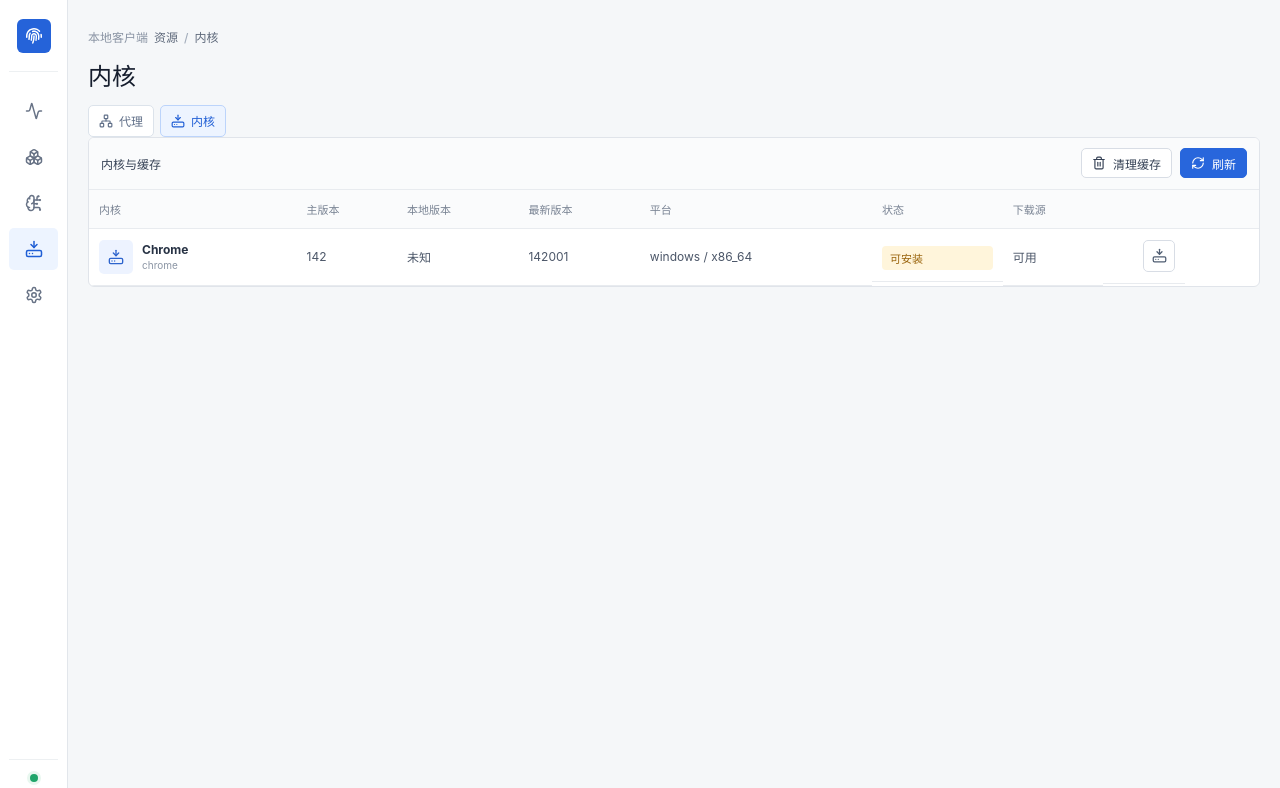
Scenario: App navigation › groups product navigation while keeping advanced pages addressable
Expected: the heading "内核" is shown, [88,62,136,91]
Click the button named "系统" at [34, 295], box [9,274,58,316]
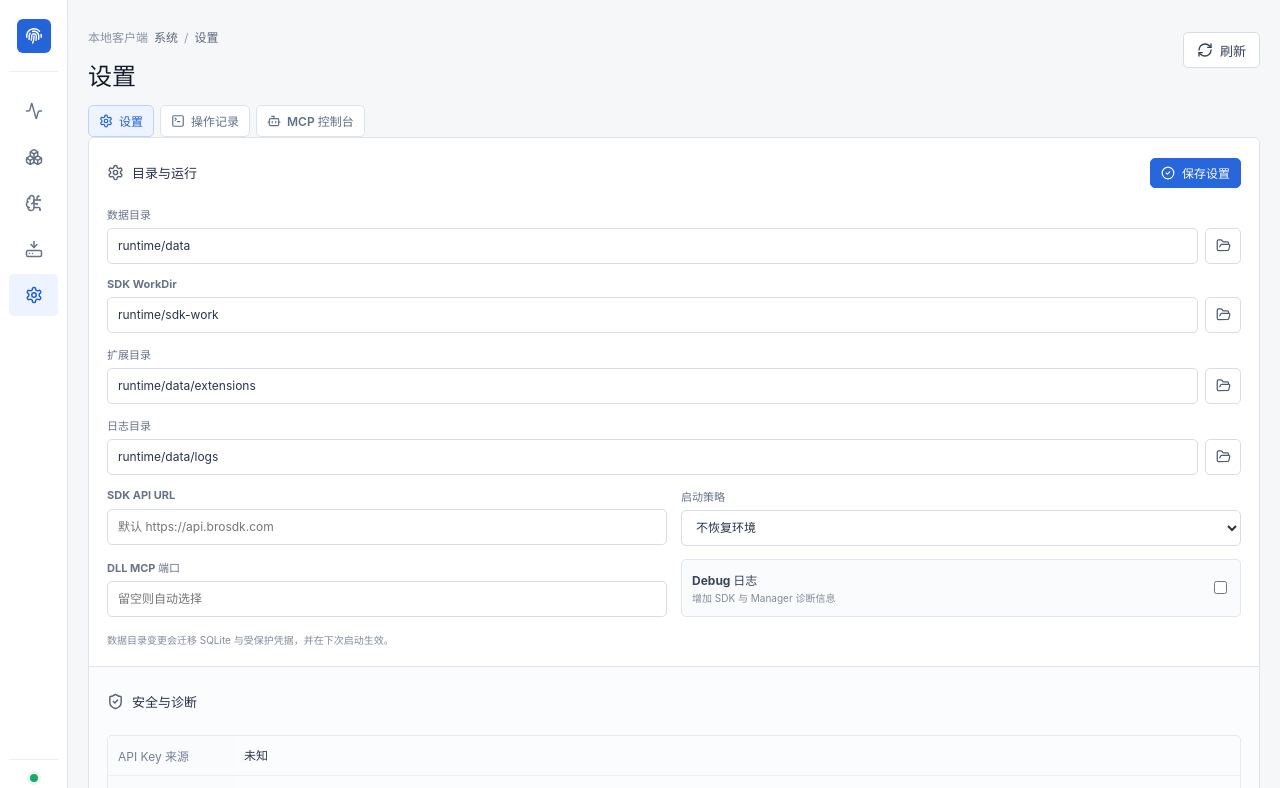
Result: the heading "设置" is shown at [88,62,136,91]
Click the button "操作记录" at [205, 121], box [160,105,250,137]
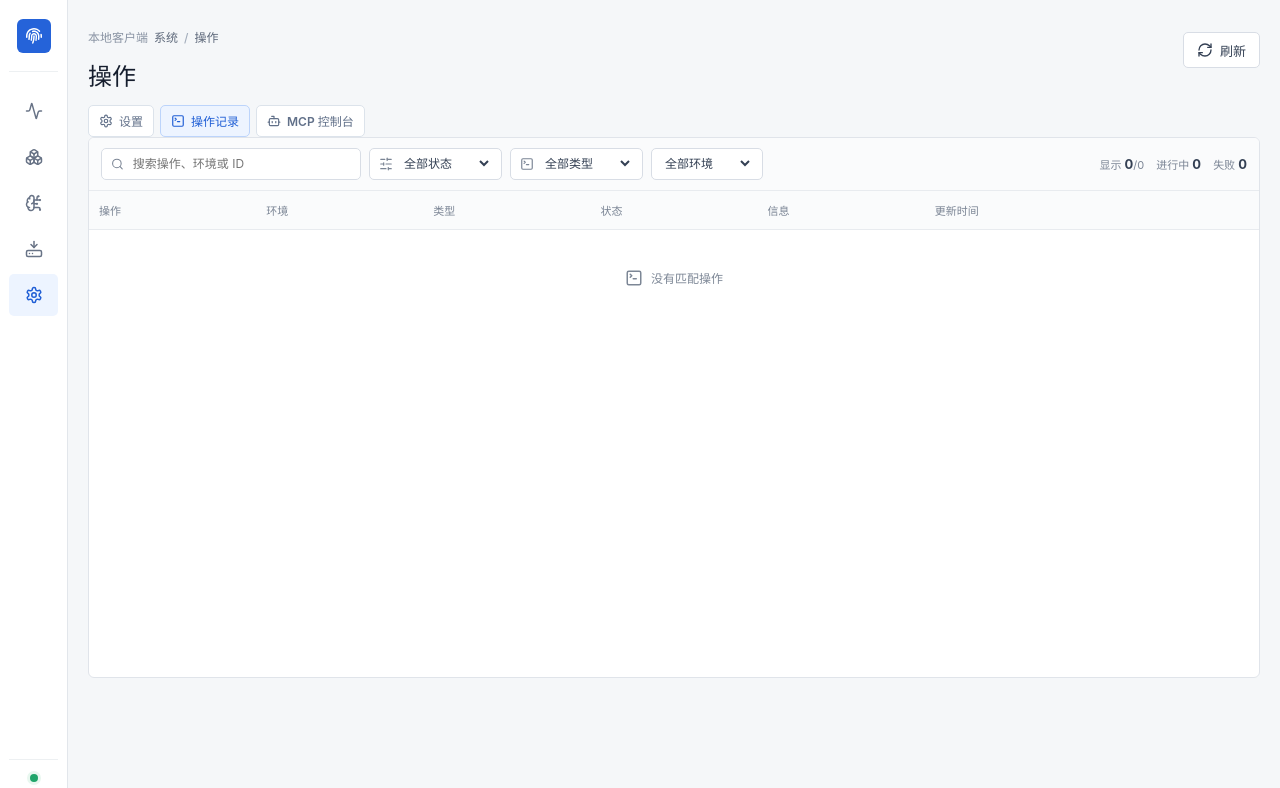
Result: the heading "操作" is shown at [88,62,136,91]
